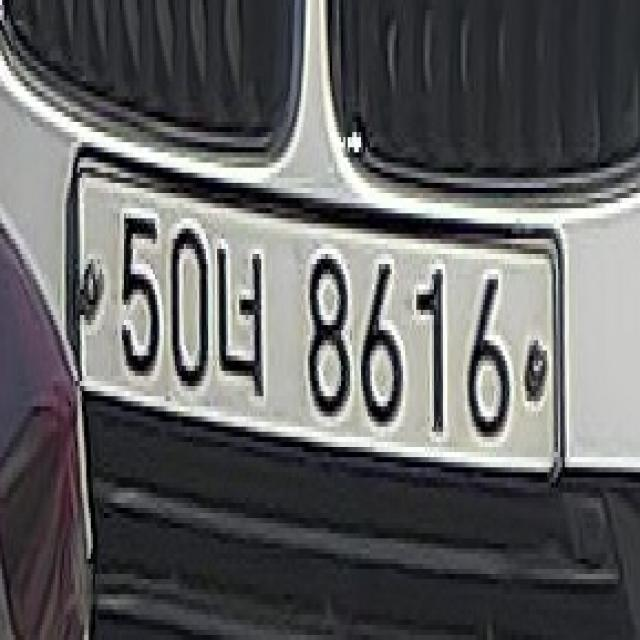0: (168, 219, 210, 402)
1: (414, 262, 450, 439)
5: (112, 212, 162, 388)
6: (464, 270, 516, 454), (358, 258, 406, 437)
8: (302, 247, 351, 428)
license_plate: (85, 168, 571, 503)
neo: (216, 230, 266, 412)
